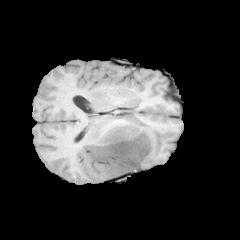glioma: (74, 110, 176, 176)
